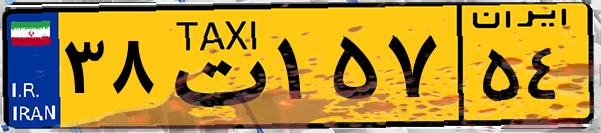1: (270, 28, 330, 110)
3: (57, 26, 110, 100)
4: (525, 38, 570, 115)
5: (330, 28, 385, 110), (475, 38, 525, 113)
7: (385, 28, 445, 110)
8: (110, 28, 158, 98)
ت: (158, 12, 270, 120)
